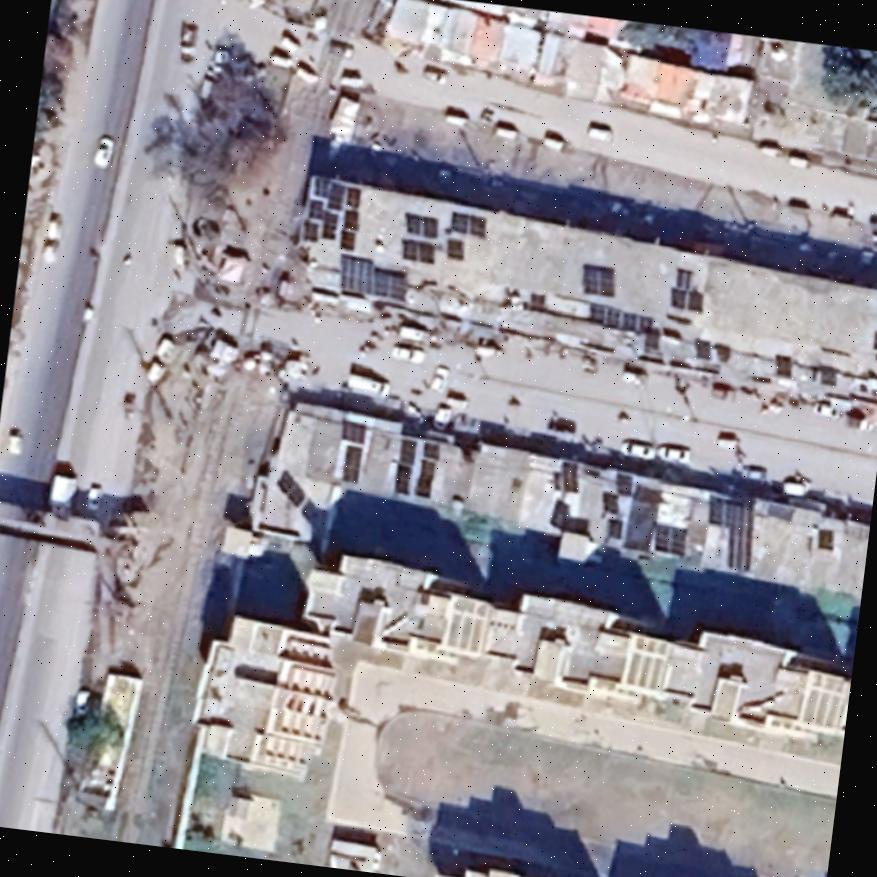Solarpanel: (296, 168, 370, 255), (696, 485, 766, 576), (330, 246, 417, 306), (387, 426, 446, 504), (578, 294, 659, 339), (392, 204, 446, 268), (438, 204, 492, 266), (330, 413, 372, 488), (662, 260, 712, 318), (573, 255, 622, 302), (646, 516, 692, 560), (274, 463, 310, 507), (440, 232, 469, 263), (867, 296, 877, 356)
